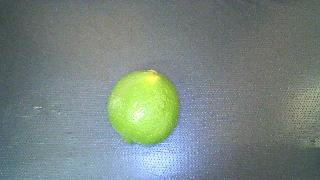EXPORTACION: (107, 70, 179, 145)
